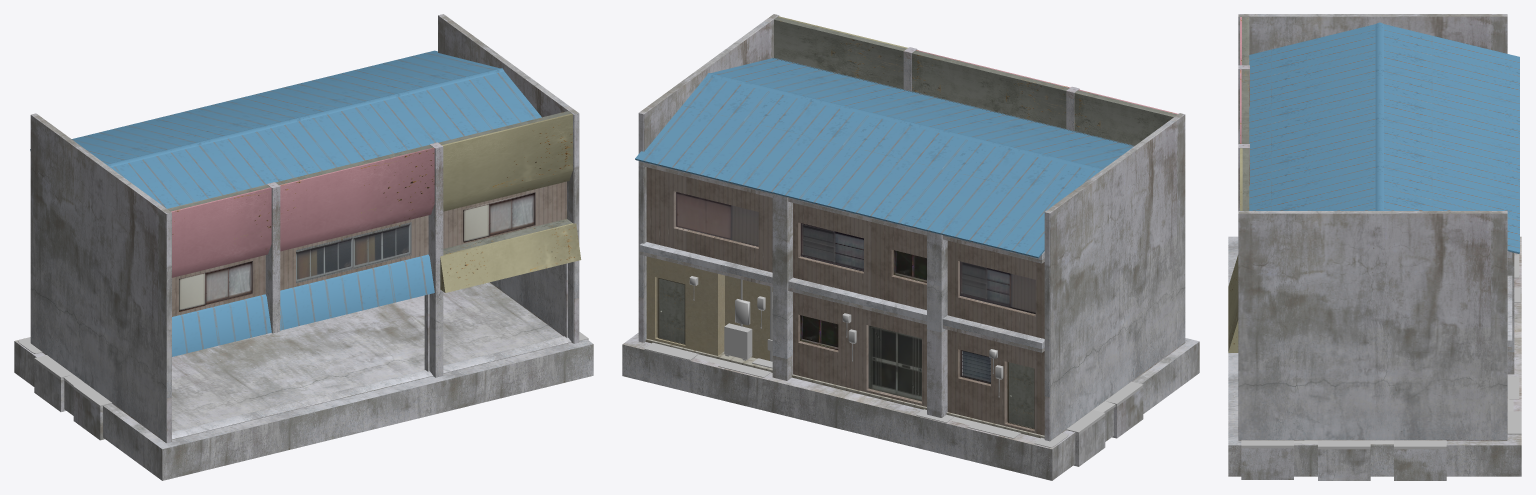
File: ms_tri_b_2_in.fbx
3 renders of one model, left to right at view 1: azimuth 30°, elevation 25°; view 2: azimuth 150°, elevation 25°; view 3: azimuth 270°, elevation 25°, orthographic.
Visible parts, largest first — view 1: ms_tri_b_2_in; view 2: ms_tri_b_2_in; view 3: ms_tri_b_2_in.
Part boxes in pixels (x1,y1,x2,y2): ms_tri_b_2_in: [14, 14, 593, 480]; ms_tri_b_2_in: [622, 14, 1199, 480]; ms_tri_b_2_in: [1228, 14, 1521, 480].
Size of the model in its own units: 1808 by 1038 by 1058.
